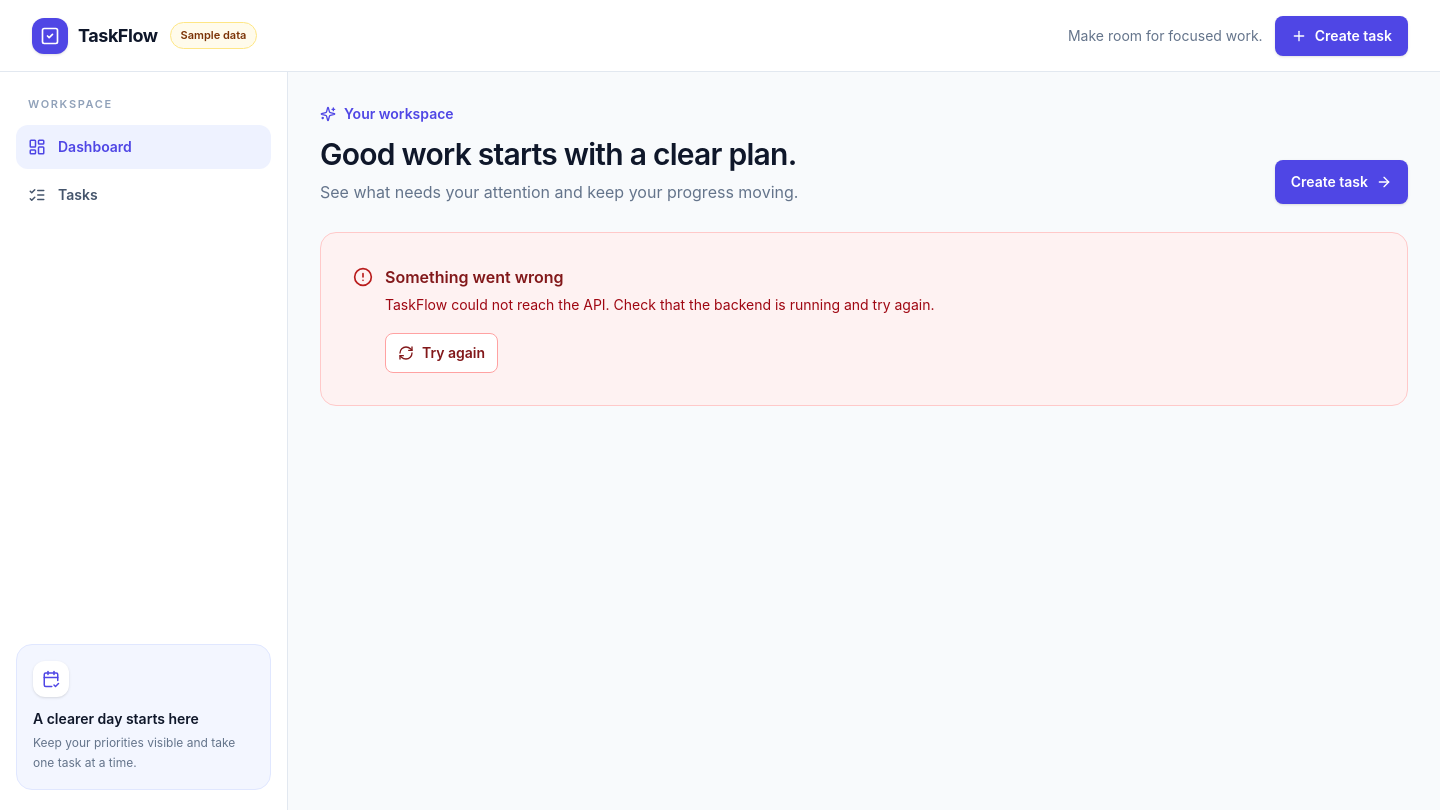
TaskFlow application › shows an error and allows retry without substituting mock success
Expected: the text "could not reach the API" is shown, [385, 296, 934, 313]
Expected: the text "Finish competitor research" is not shown
Click the button "Try again": (442, 353) [385, 333, 498, 373]
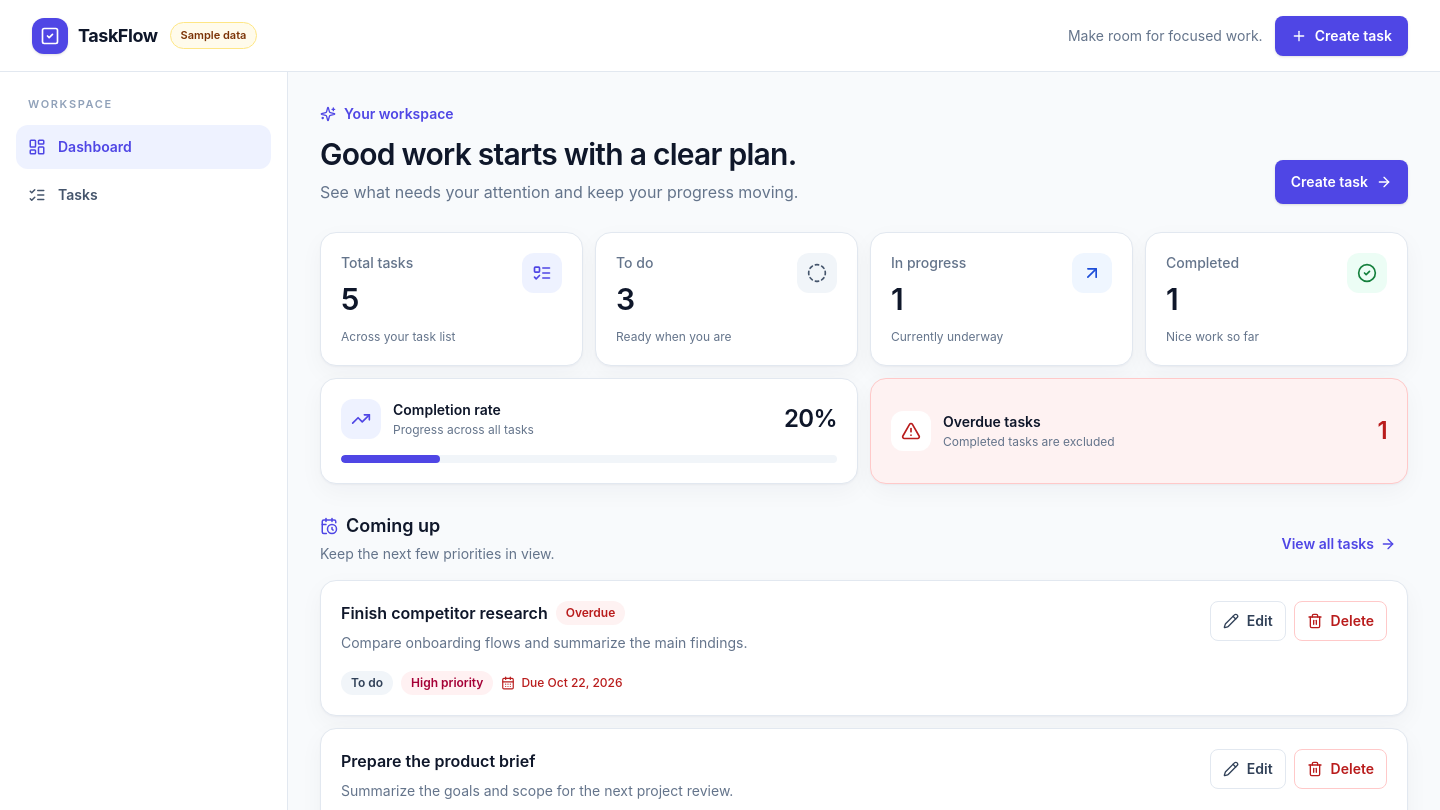
Result: the heading "Finish competitor research" is shown at [341, 601, 548, 625]
